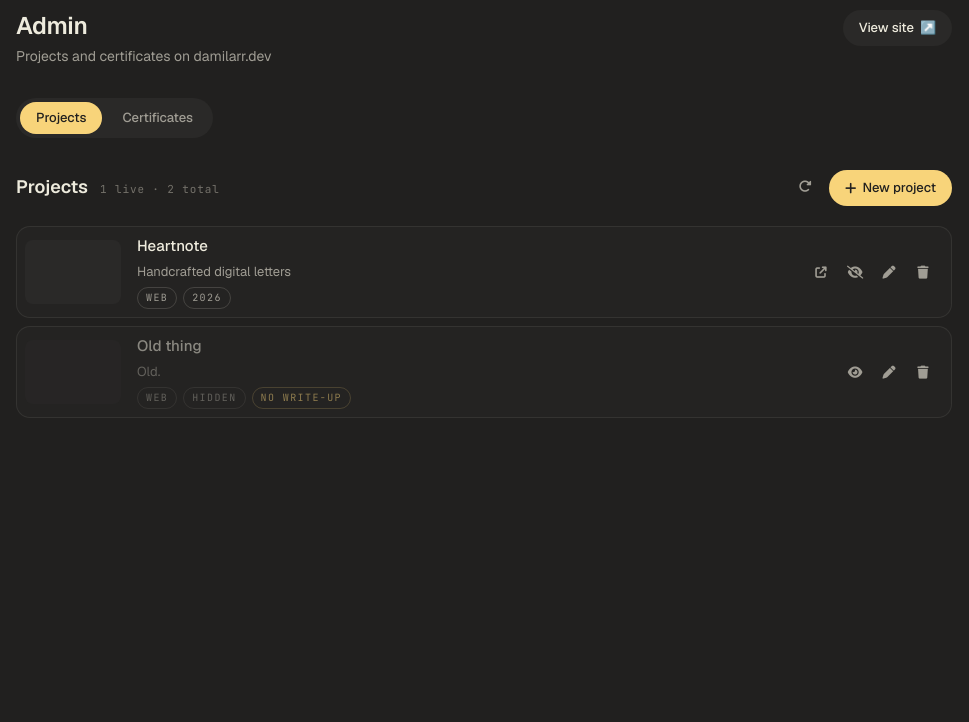
Test: ProjectUploadComponent › opens a project in the editor with its write-up filled in
Click the button with class "row-main" that starts with "Heartnote". click: (73, 272)
box: [25,235,793,309]
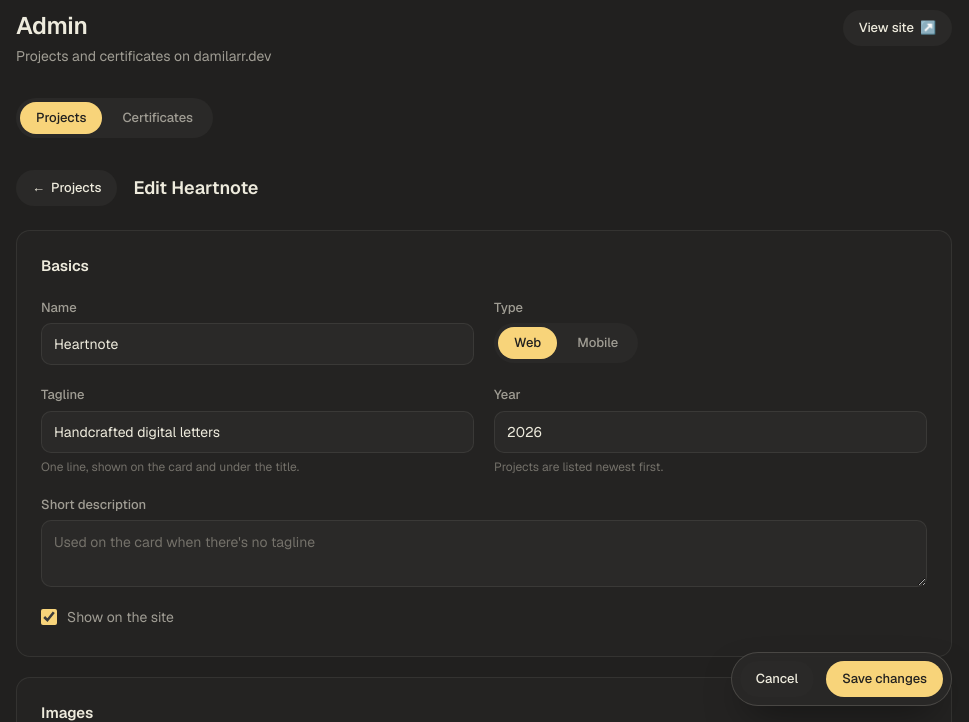
Expected: the list item "Heartnote Handcrafted digital letters Web 2026" is gone
Expected: the heading "Edit Heartnote" is shown, [133,174,258,202]
Expected: the field with id "tagline" holds "Handcrafted digital letters", [41,410,474,452]
